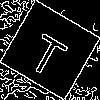T: (25, 24, 73, 80)
